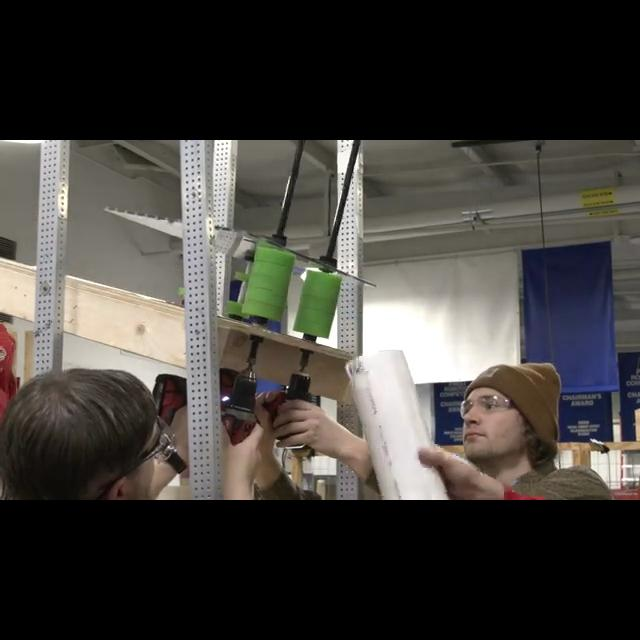CORAL: (345, 347, 451, 498)
